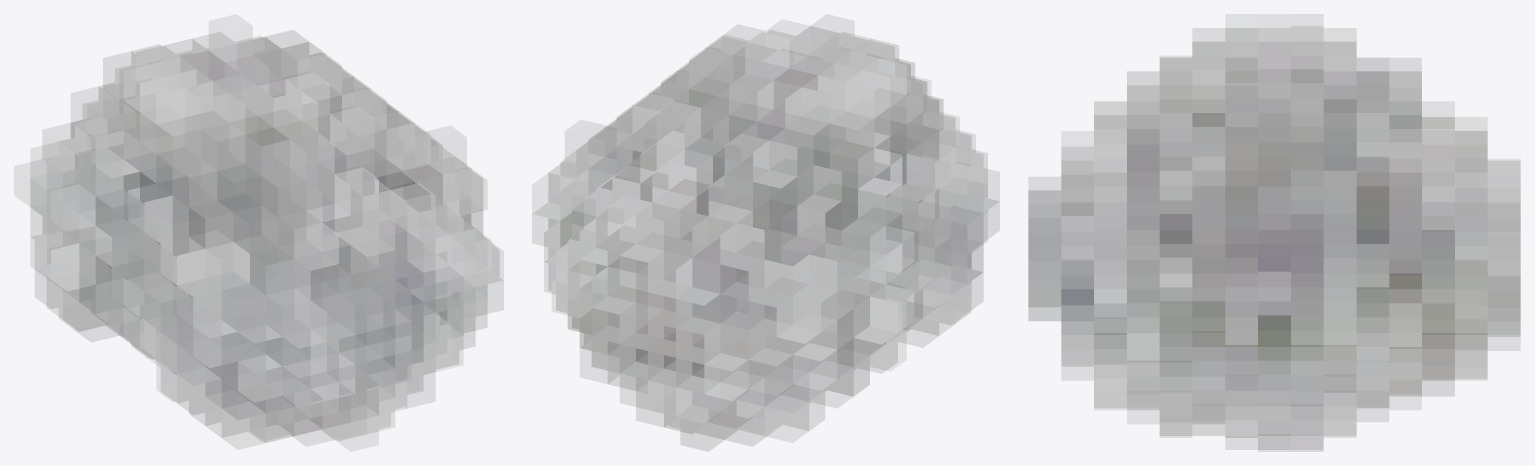
The model's file is iter_15.obj.
3 renders of one model, left to right at view 1: azimuth 30°, elevation 25°; view 2: azimuth 150°, elevation 25°; view 3: azimuth 270°, elevation 25°, orthographic.
Visible parts, largest first — view 1: iter_15; view 2: iter_15; view 3: iter_15.
Part boxes in pixels (x1,y1,x2,y2): iter_15: (30, 32, 503, 442); iter_15: (533, 26, 999, 439); iter_15: (1028, 26, 1520, 449).
Size of the model in its own units: 1.3 by 1.2 by 1.5.
